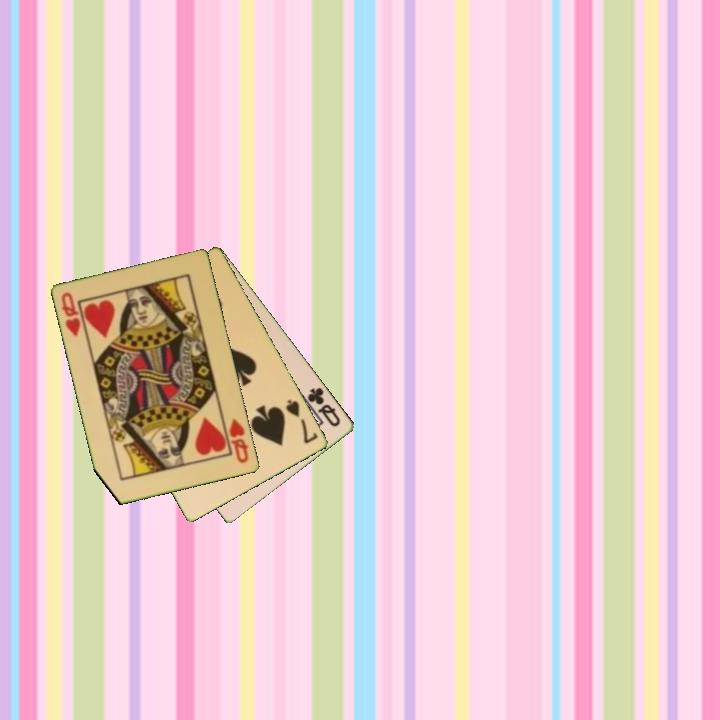7s: (283, 396, 321, 447)
Qc: (304, 384, 344, 430)
Qh: (226, 415, 252, 466), (58, 289, 84, 340)
